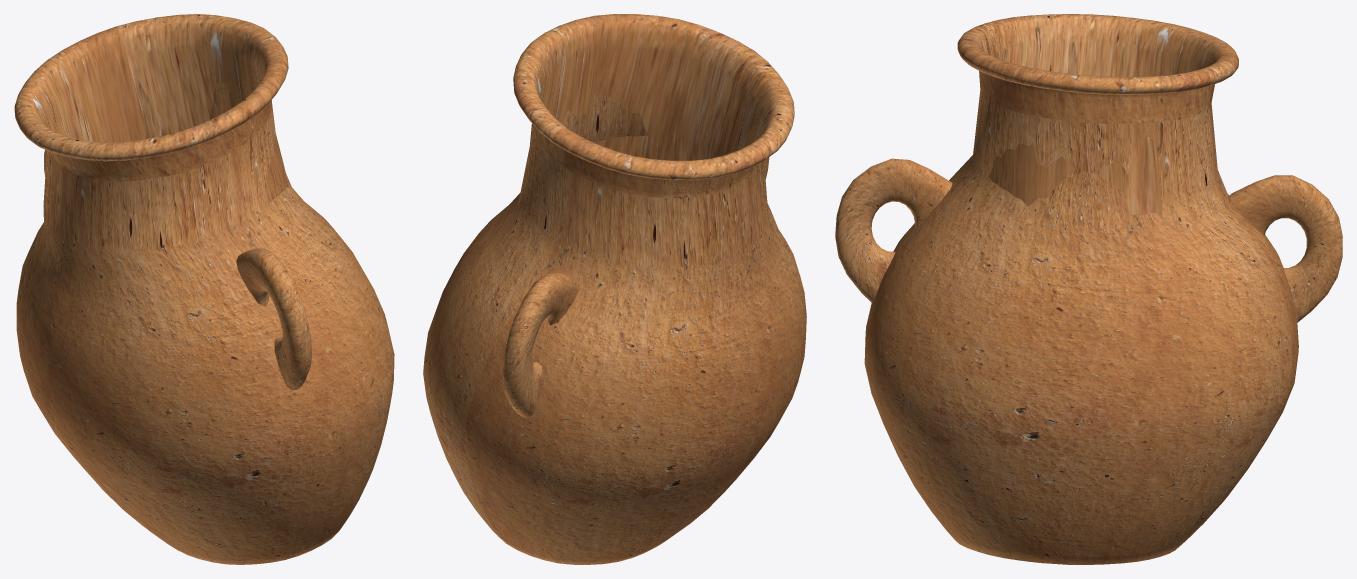
The model's file is goza_gwechka.glb.
3 renders of one model, left to right at view 1: azimuth 30°, elevation 25°; view 2: azimuth 150°, elevation 25°; view 3: azimuth 270°, elevation 25°, orthographic.
Parts seen in each view (by area): view 1: uploads_files_2457244_Ancient+vase, uploads_files_2457244_Ancient+vase.004; view 2: uploads_files_2457244_Ancient+vase, uploads_files_2457244_Ancient+vase.002; view 3: uploads_files_2457244_Ancient+vase, uploads_files_2457244_Ancient+vase.004, uploads_files_2457244_Ancient+vase.002.
Boxes of the visible parts, x1,y1,x2,y2 form: uploads_files_2457244_Ancient+vase: (14, 14, 394, 564); uploads_files_2457244_Ancient+vase.004: (236, 248, 312, 390); uploads_files_2457244_Ancient+vase: (423, 14, 806, 564); uploads_files_2457244_Ancient+vase.002: (502, 272, 579, 417); uploads_files_2457244_Ancient+vase: (864, 14, 1298, 564); uploads_files_2457244_Ancient+vase.004: (835, 158, 952, 303); uploads_files_2457244_Ancient+vase.002: (1228, 175, 1342, 322).
Bounding box in the file's own units: 0.5817 × 0.8417 × 0.789.
Materials: 3 (3 with a texture image).
